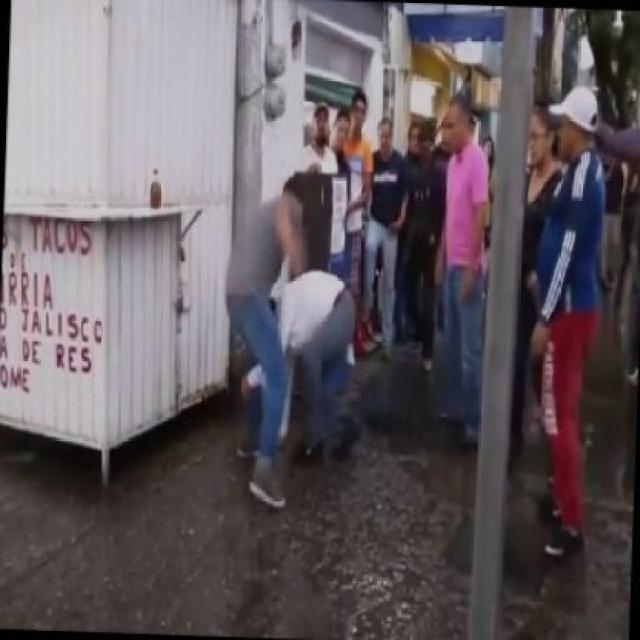fight: (215, 167, 368, 516)
non-fight: (511, 72, 638, 565), (428, 91, 487, 439)
